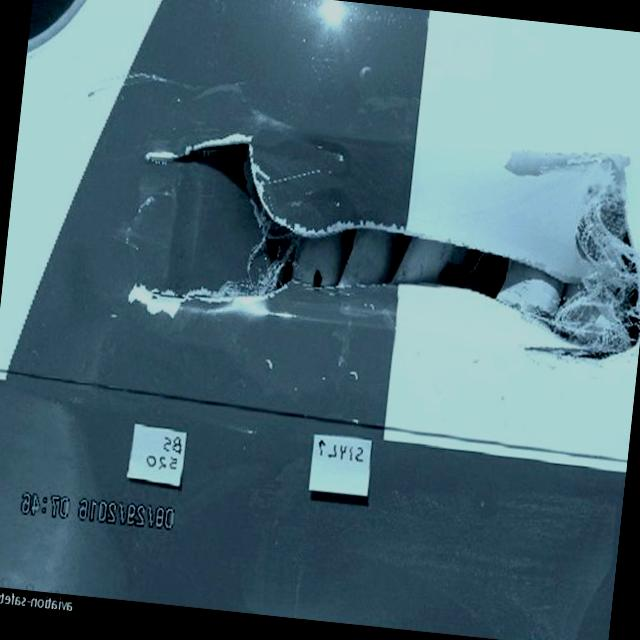crack: (134, 267, 247, 322), (168, 126, 246, 182)
